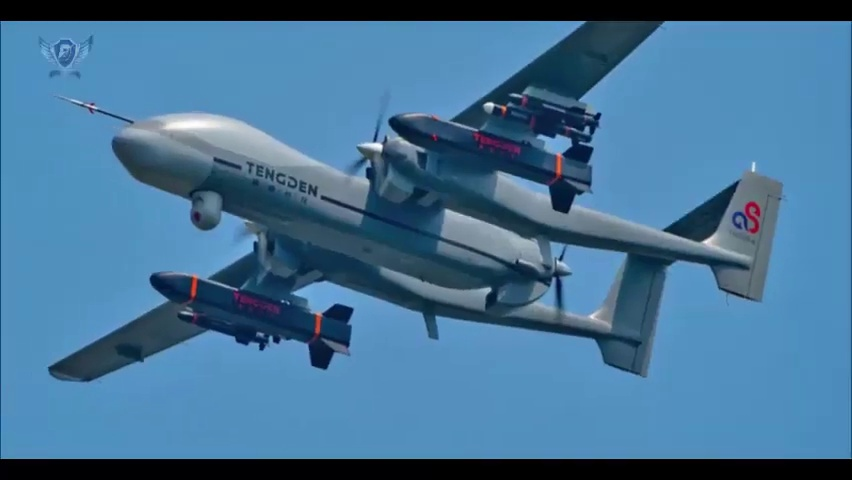military drone: (47, 22, 783, 382)
